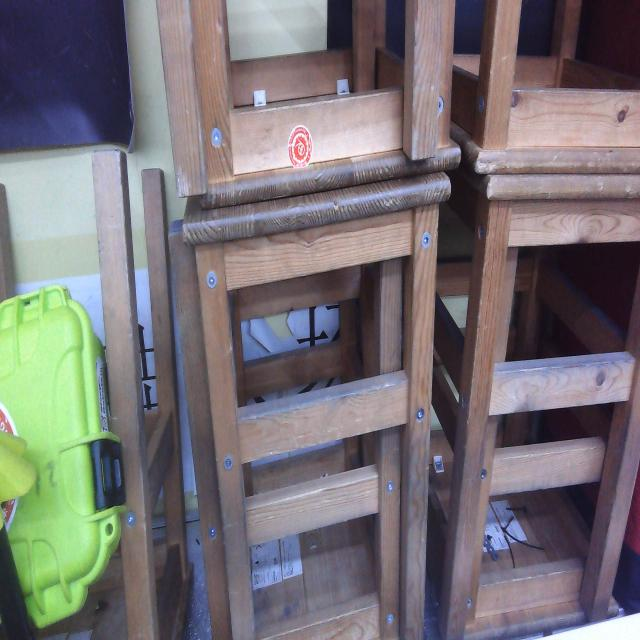Yellow-Stake-Head: (0, 433, 37, 528)
